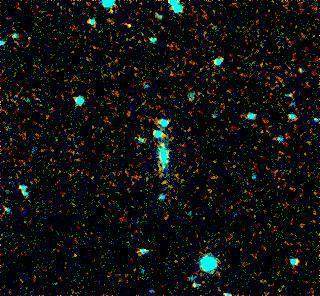star: (148, 130, 178, 160)
